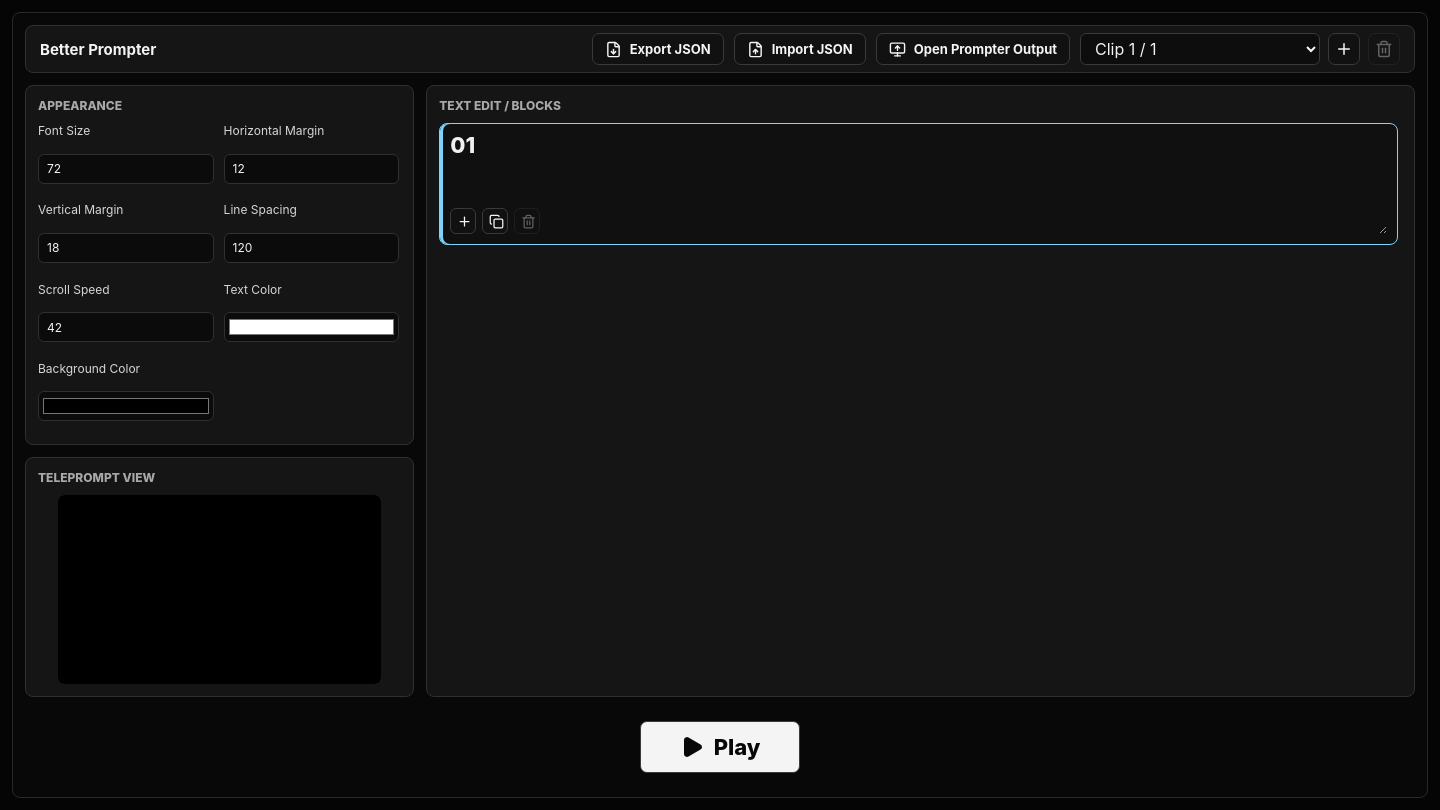
Test: App › splits a block at the cursor and moves focus to the new block
In the text box named "Block 1": (983, 184) [578,134,1387,234], type "firstsecond"
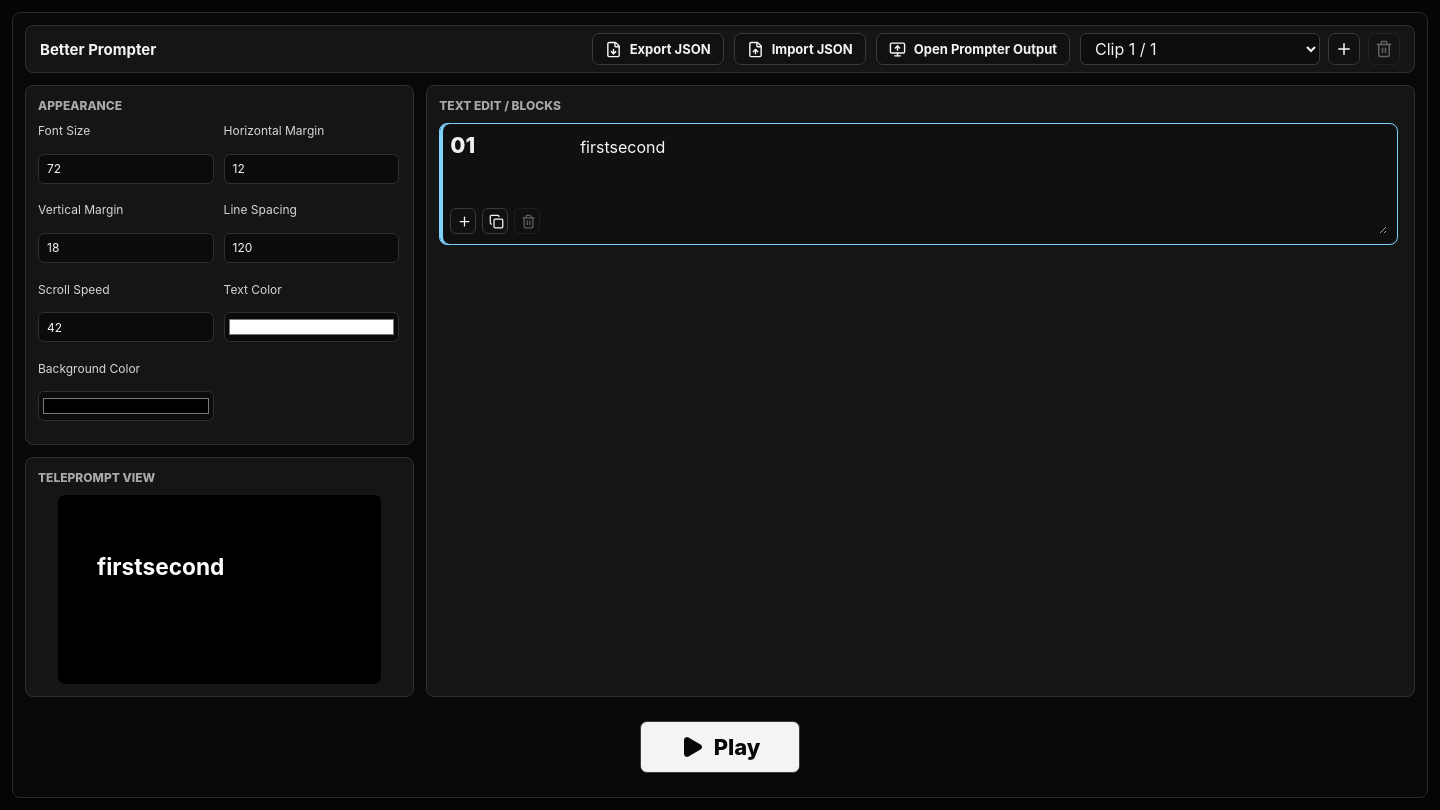
Press Enter in the text box named "Block 1", box [578,134,1387,234]
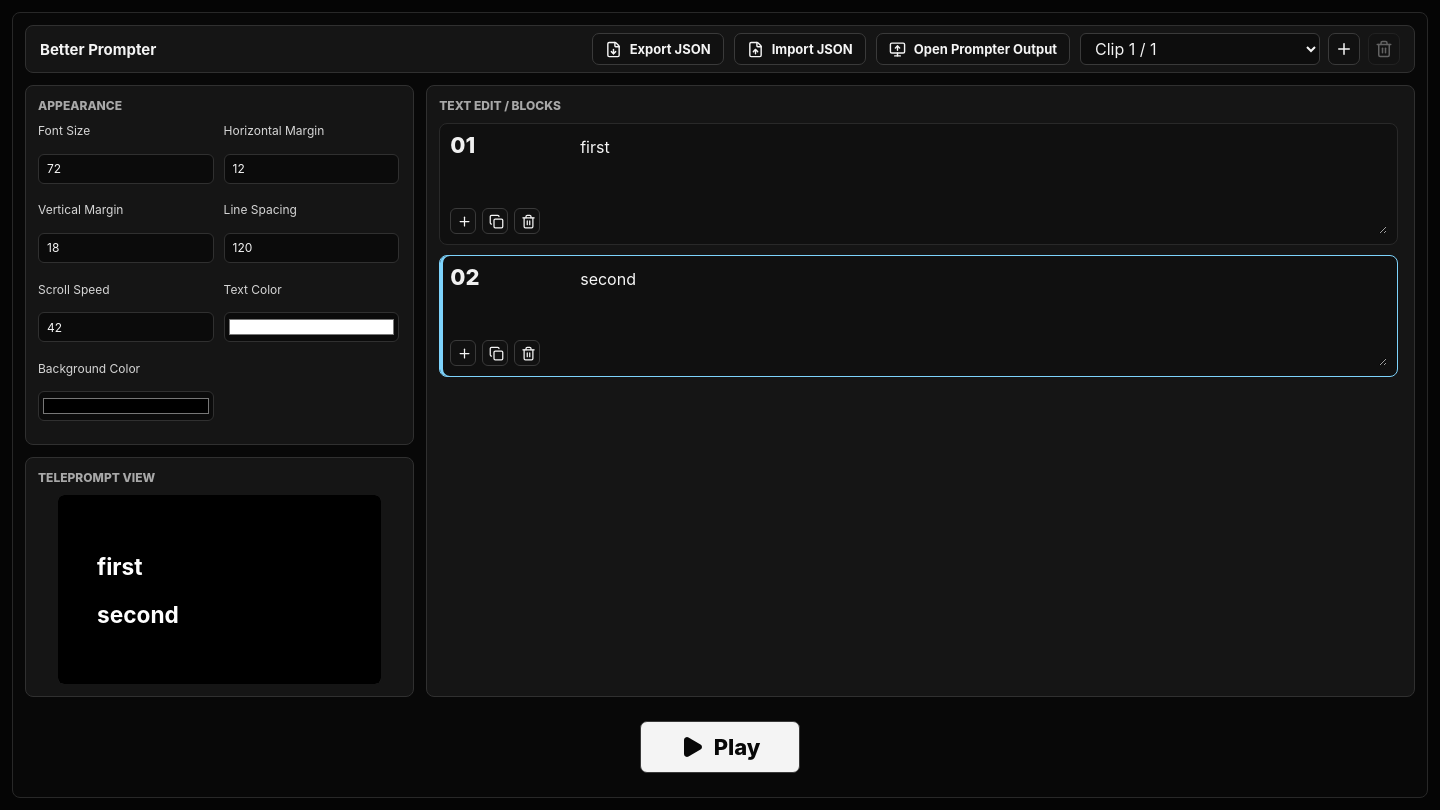
Now the text box showing "first" is shown, box [578,134,1387,234]
Now the text box showing "second" is shown, box [578,266,1387,366]
